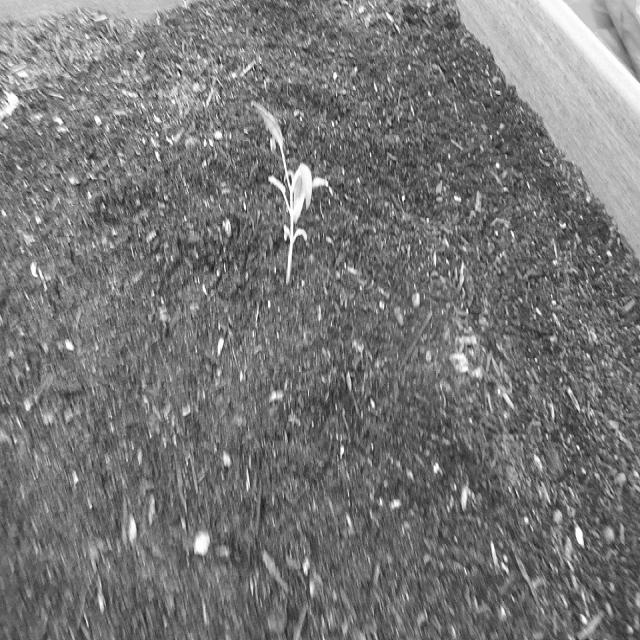Healthy: (250, 86, 335, 295)
